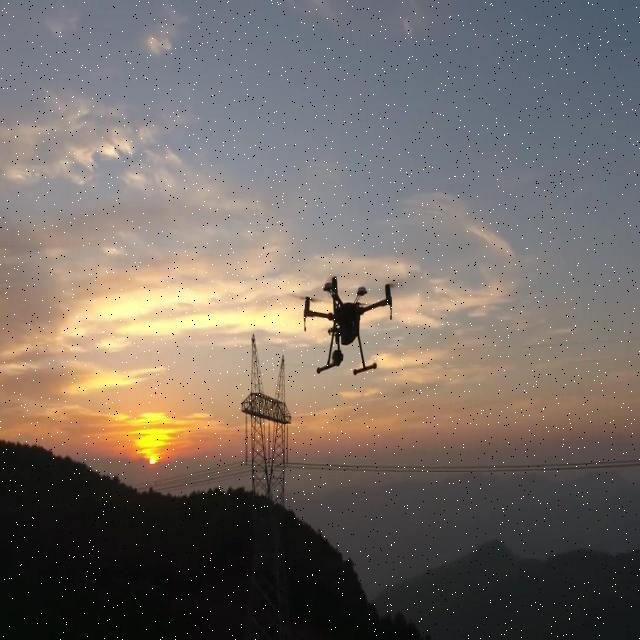UAV: (298, 276, 396, 376)
